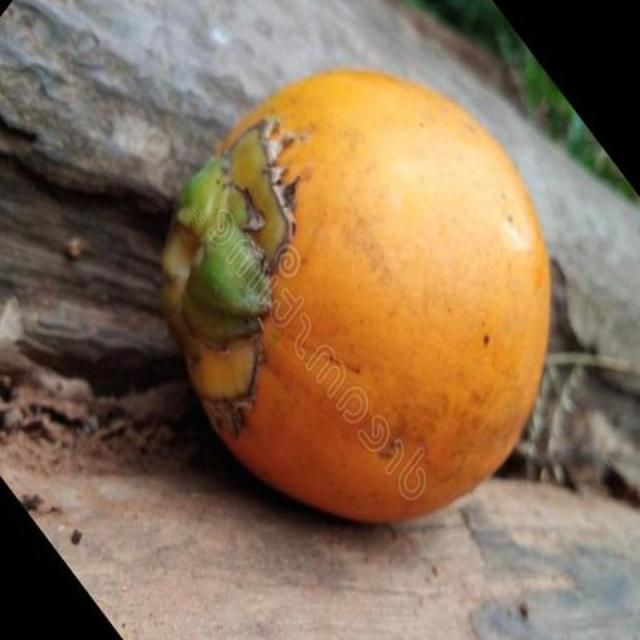good: (162, 69, 550, 522)
